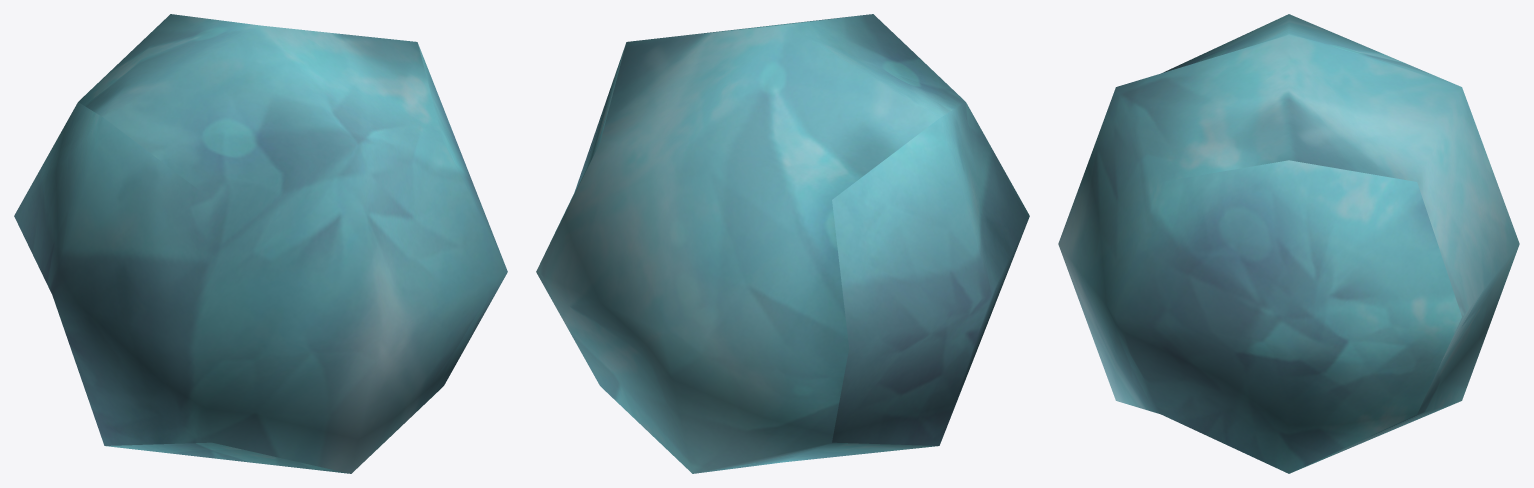
Rendered from projectile.fbx.
3 views of the same model, side by side, from view 1: azimuth 30°, elevation 25°; view 2: azimuth 150°, elevation 25°; view 3: azimuth 270°, elevation 25° (orthographic). The views are drawn at different scales.
Visible parts, largest first — view 1: pCube1; view 2: pCube1; view 3: pCube1.
Part boxes in pixels (x1=…): pCube1: x1=14, y1=14, x2=507, y2=473; pCube1: x1=536, y1=14, x2=1029, y2=473; pCube1: x1=1058, y1=14, x2=1519, y2=473.
Size of the model in its own units: 1 by 1 by 1.
